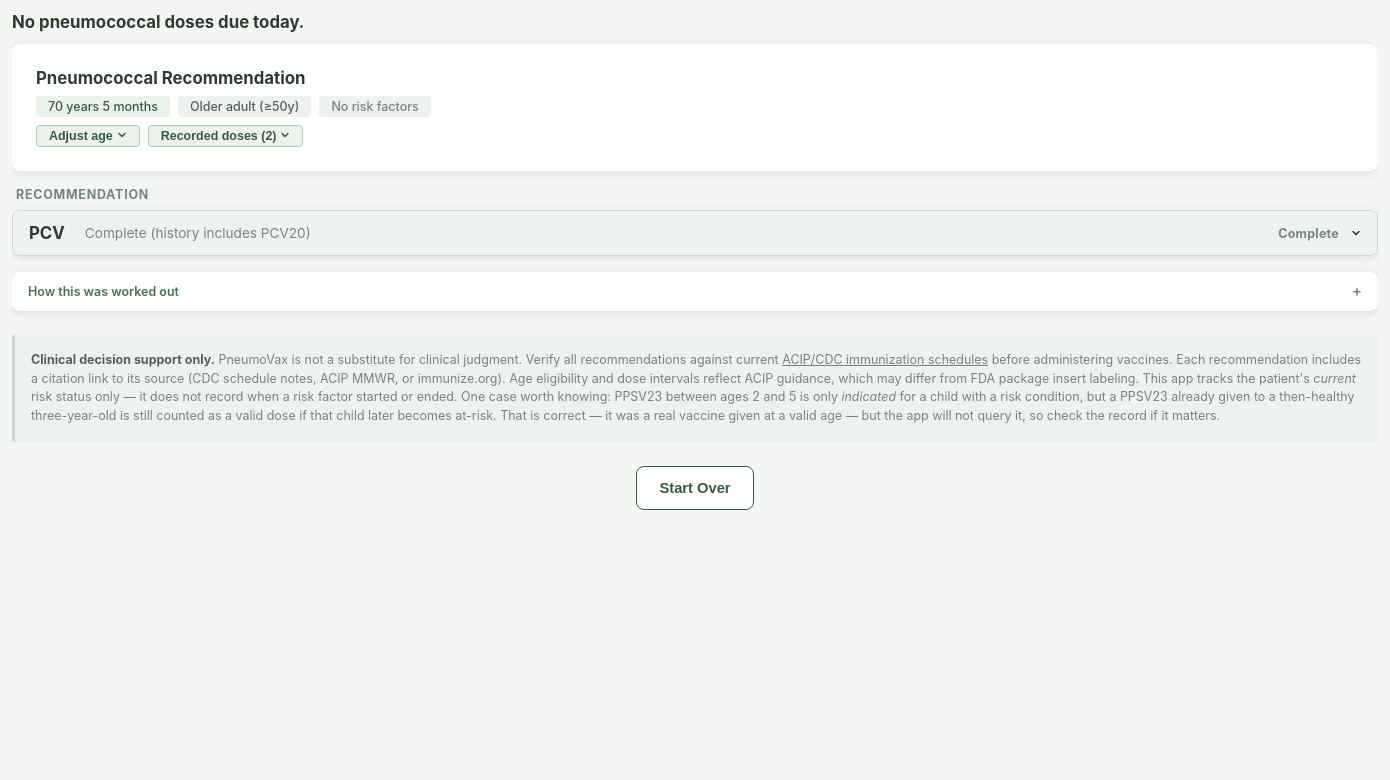
Test: S3-N1 — the whole flow agrees, end to end › end to end: an adult five-week PCV13 → PCV20 gap counts, and the caveat is BOLD
This screenshot has width=1390, height=780.
Click the button with class "rec-card-head-toggle": (47, 233) x1=13 y1=211 x2=1377 y2=255
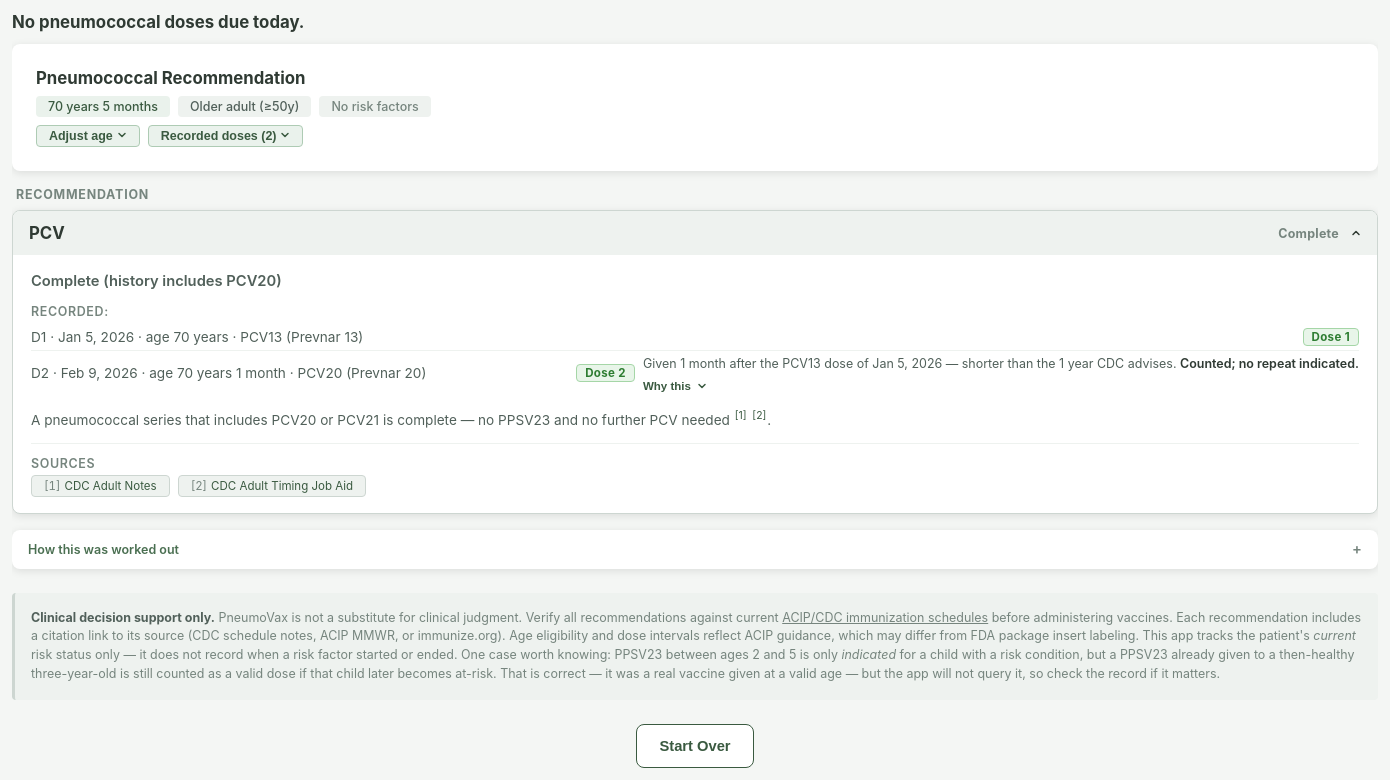
expect the text "shorter than the 1 year CDC advises" is shown: met, box x1=643 y1=356 x2=1180 y2=371
expect the text with class "note-emphasis" shows "Counted; no repeat indicated": met, box x1=1180 y1=356 x2=1359 y2=371
expect the text "Dose 2" is shown: met, box x1=576 y1=364 x2=635 y2=382
